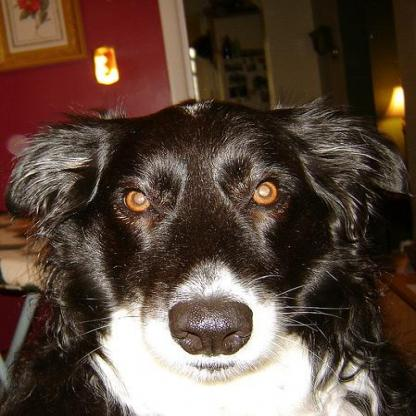Border_collie: (0, 80, 413, 414)
